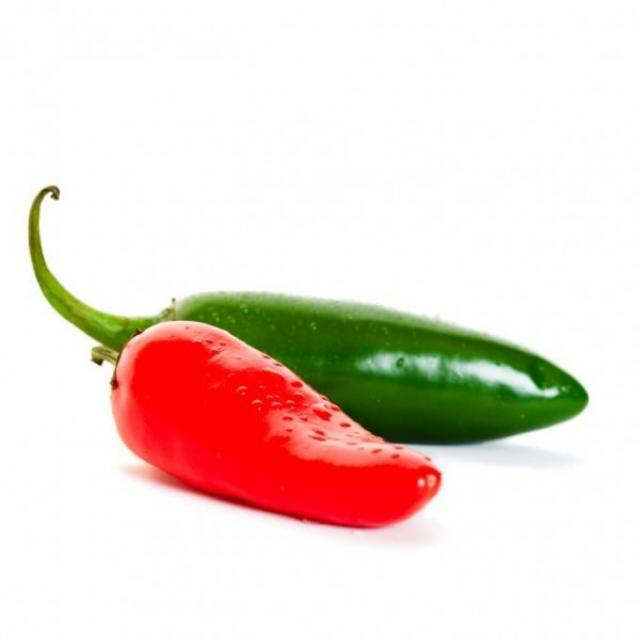aji: (93, 270, 596, 451), (90, 315, 469, 526)
